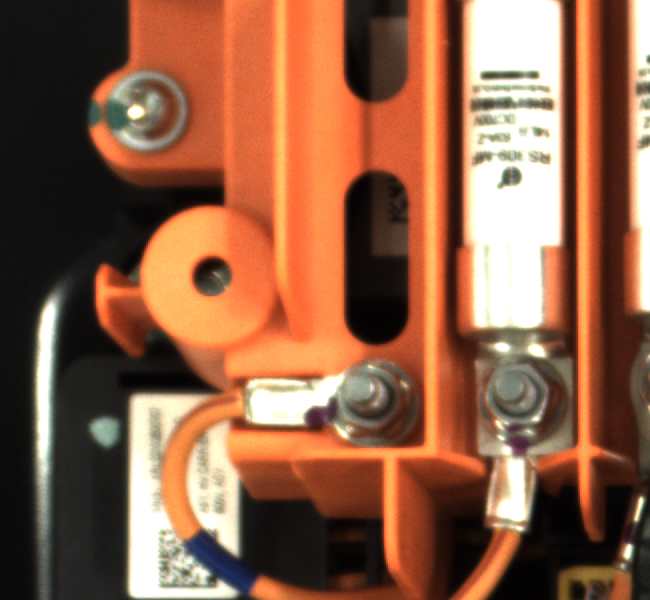screw_m: (91, 61, 207, 161)
screw_s: (453, 350, 581, 444), (307, 349, 413, 446)
